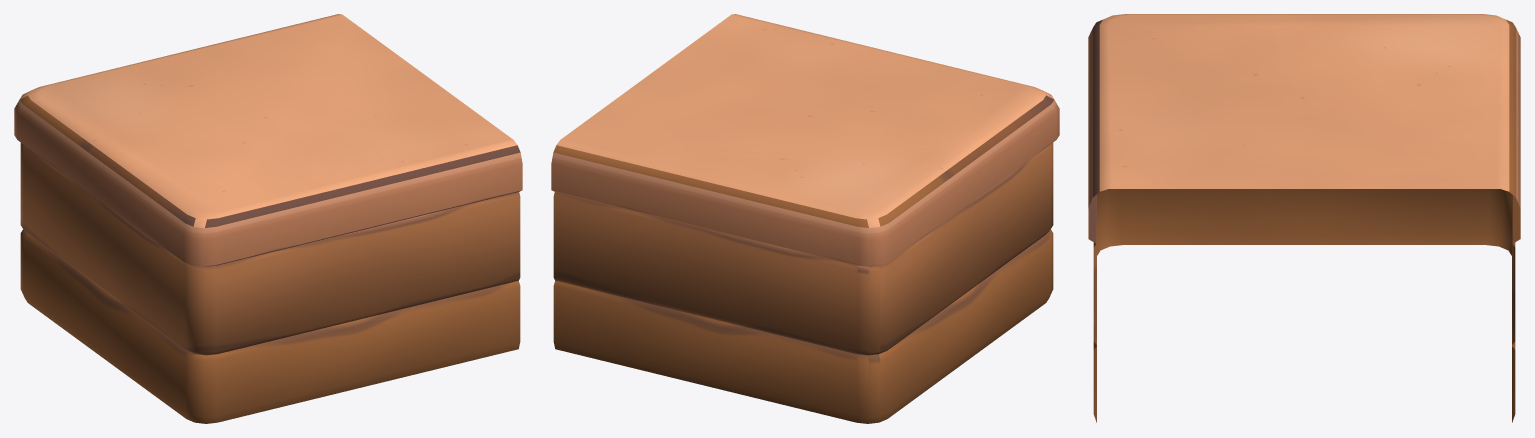
Rendered from ground_end.glb.
3 renders of one model, left to right at view 1: azimuth 30°, elevation 25°; view 2: azimuth 150°, elevation 25°; view 3: azimuth 270°, elevation 25°, orthographic. The views are drawn at different scales.
Visible parts, largest first — view 1: ground_end; view 2: ground_end; view 3: ground_end.
Part boxes in pixels (x1,y1,x2,y2): ground_end: (14,14,522,423); ground_end: (551,14,1059,423); ground_end: (1088,14,1520,422).
Size of the model in its own units: 1 by 0.6 by 1.
2 materials, 2 textured.
